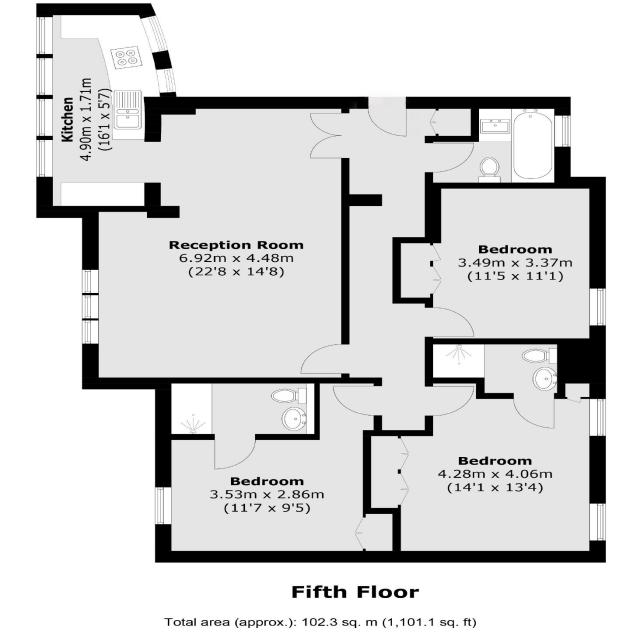DOOR: (425, 304, 478, 340), (424, 382, 477, 418), (209, 434, 259, 472), (509, 392, 557, 431), (298, 341, 351, 376), (365, 96, 409, 138), (425, 140, 477, 174), (332, 385, 382, 416)
DOUBLE DOOR: (306, 111, 350, 161)
ROOM: (35, 2, 352, 389), (154, 376, 402, 563), (363, 377, 606, 563), (391, 176, 606, 345)
WINDOW: (138, 12, 171, 55), (151, 484, 175, 528), (587, 285, 611, 329), (586, 396, 609, 438), (34, 96, 55, 139), (588, 501, 609, 542), (35, 15, 55, 58), (35, 55, 55, 96), (35, 138, 54, 178), (153, 65, 178, 95), (553, 113, 572, 149), (79, 320, 101, 346), (79, 293, 100, 320), (80, 268, 100, 295)
